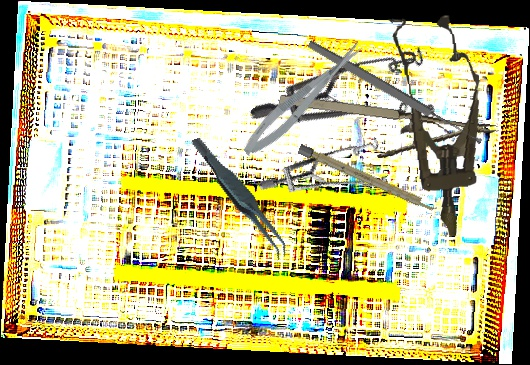Micro Scissor: (236, 36, 371, 163)
Needle Holder: (272, 87, 500, 178)
Scalpel Handle: (297, 143, 439, 215)
Speculum: (247, 5, 460, 205), (386, 10, 496, 241), (257, 103, 403, 234)
Surgical Spoon: (306, 38, 484, 148)
Tissue Forceps: (190, 123, 291, 273)
